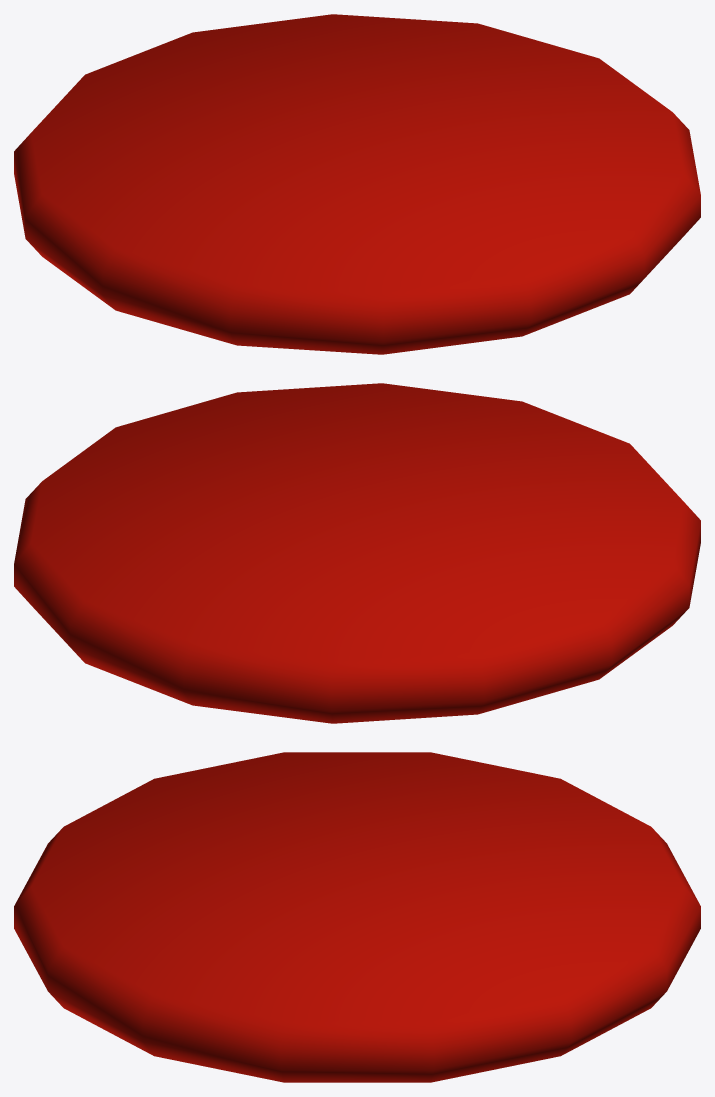
File: Tomato.fbx
3 renders of one model, top to bottom at view 1: azimuth 30°, elevation 25°; view 2: azimuth 150°, elevation 25°; view 3: azimuth 270°, elevation 25°, orthographic.
Parts seen in each view (by area): view 1: Patty; view 2: Patty; view 3: Patty.
Boxes of the visible parts, box(x1,y1,x2,y2) form: Patty: box(14, 14, 700, 354); Patty: box(14, 383, 700, 723); Patty: box(14, 752, 700, 1082).
Size of the model in its own units: 49.66 by 5.07 by 50.94.
